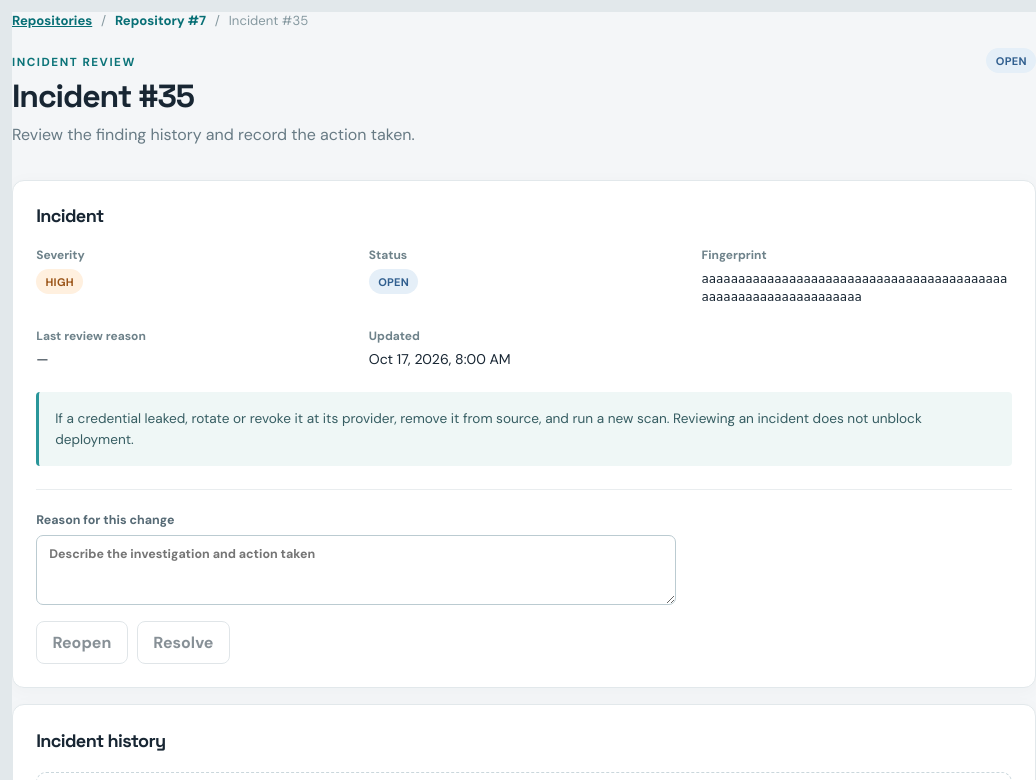
submits the incident version and refreshes the status after resolving
Expected: the heading "Incident #35" is shown, [12,76,194,116]
In the text box labelled "Reason for this change": point(356, 570) [36,534,676,605], type "Synthetic fixture removed and credential rotated."
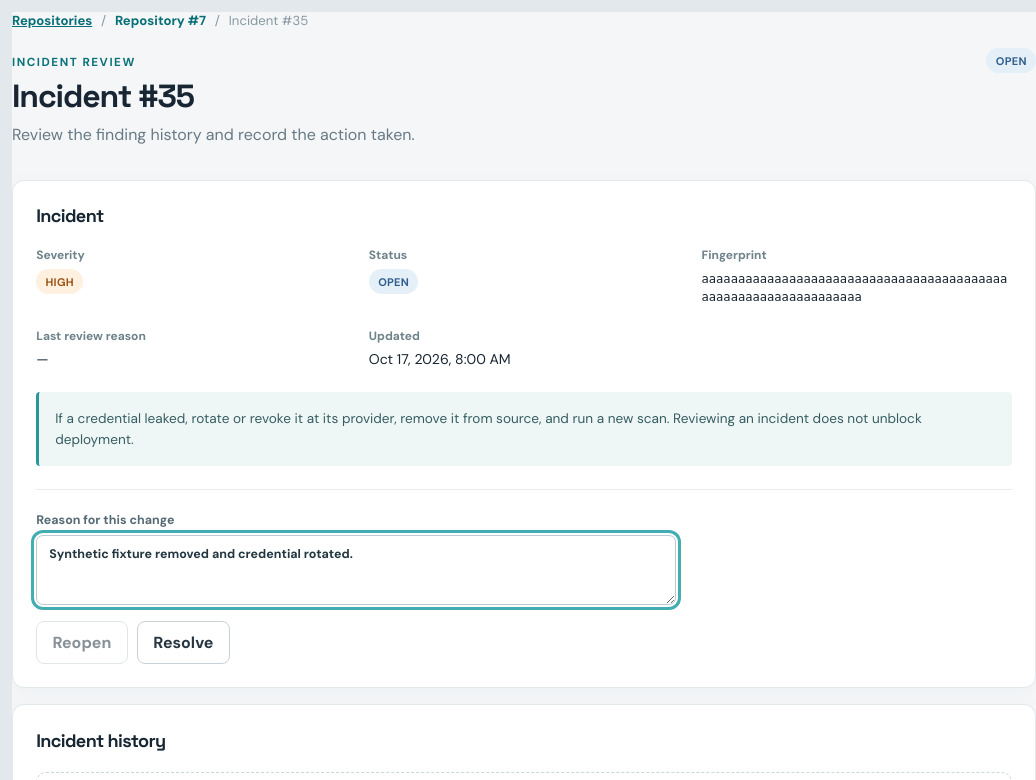
Click the button "Resolve": point(183, 642) [137,621,230,664]
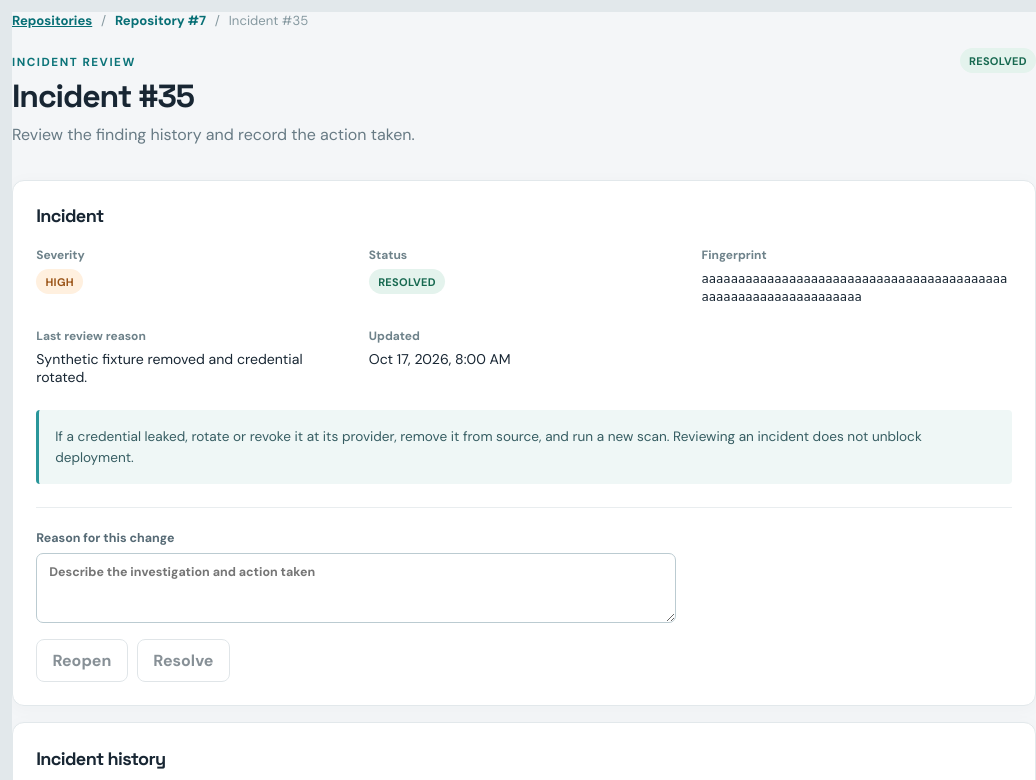
Expected: the button "Resolve" is disabled, [137,639,230,682]
